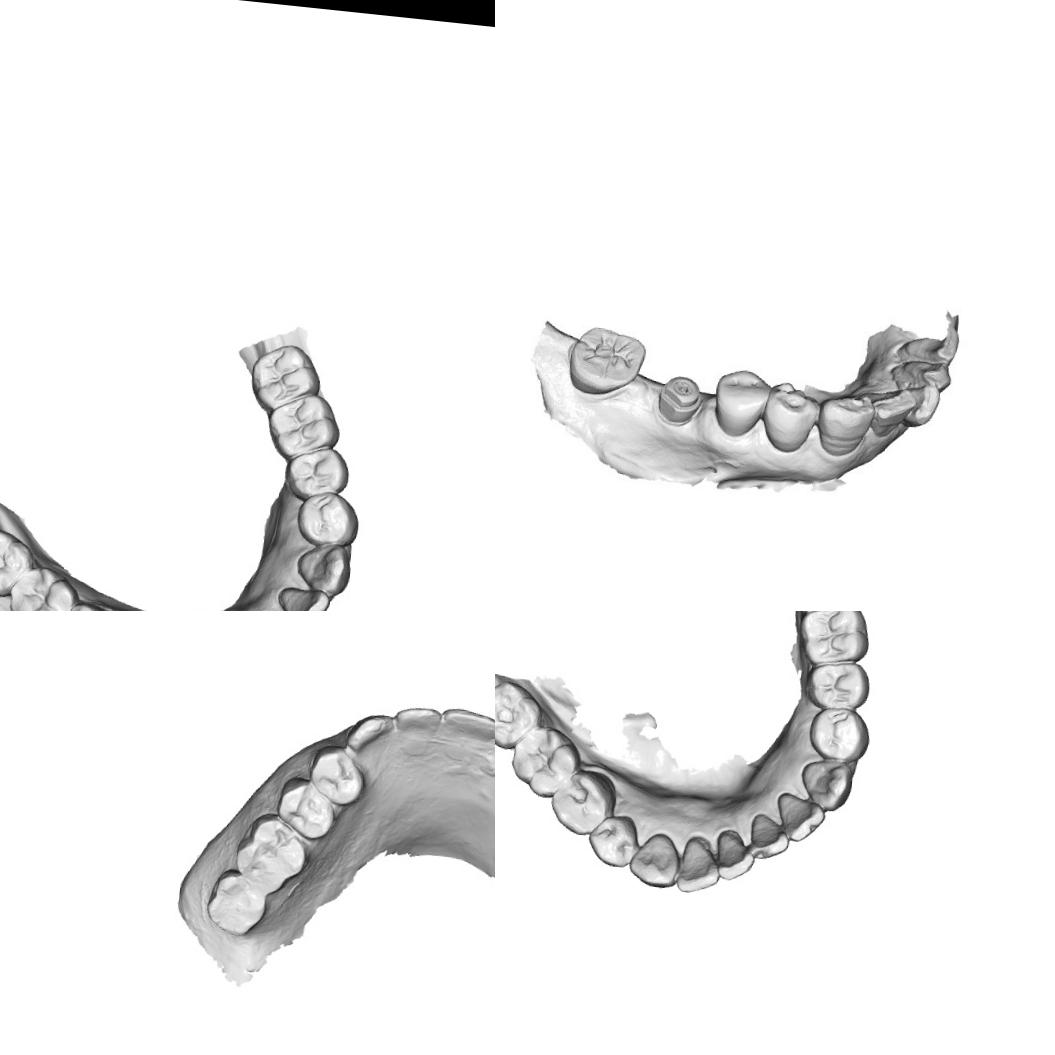canine: (814, 387, 877, 462), (798, 756, 854, 814), (294, 540, 350, 596), (628, 832, 679, 890), (344, 710, 398, 757)
implant_minus: (650, 373, 706, 426)
incisor: (773, 790, 829, 846), (866, 378, 917, 438), (675, 835, 724, 896), (712, 828, 759, 884), (892, 356, 952, 396), (746, 813, 793, 863), (894, 380, 940, 425), (393, 698, 444, 738), (439, 705, 495, 740), (273, 583, 330, 611)
molar: (563, 318, 651, 402), (232, 809, 312, 889), (263, 390, 344, 464), (248, 340, 324, 418), (506, 722, 580, 800), (203, 866, 270, 940), (796, 611, 871, 670), (495, 674, 543, 754), (2, 564, 78, 611), (0, 524, 32, 598)
premolar: (758, 376, 820, 458), (548, 766, 618, 838), (710, 365, 772, 441), (274, 774, 340, 842), (306, 742, 368, 807), (808, 703, 871, 766), (286, 444, 350, 503), (294, 492, 360, 548), (806, 660, 872, 712), (586, 814, 642, 874)
